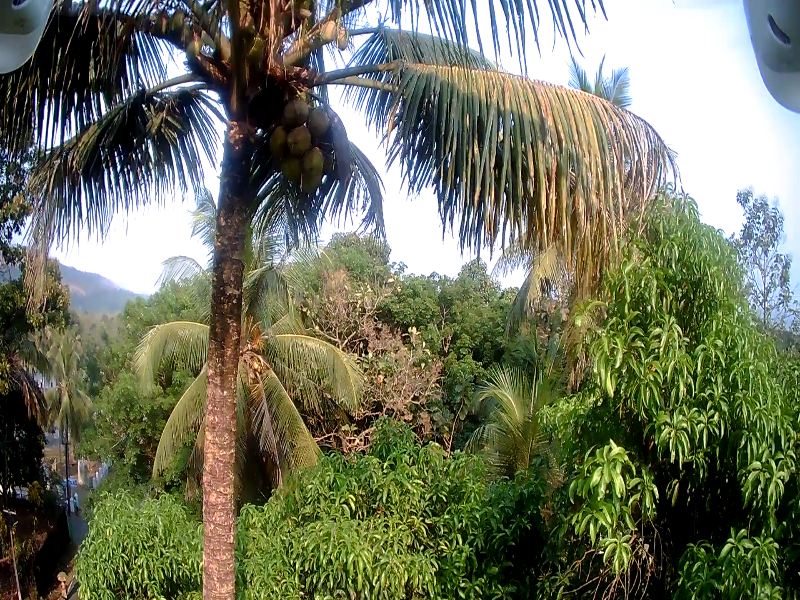coconut: (305, 148, 325, 176), (285, 94, 305, 116), (288, 128, 305, 153), (301, 172, 319, 193), (312, 113, 328, 136), (188, 39, 204, 61), (320, 23, 334, 47), (273, 129, 287, 152), (335, 28, 346, 57), (286, 160, 302, 177), (158, 13, 175, 29), (177, 13, 185, 28)
